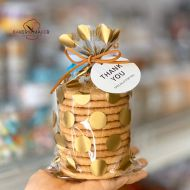Snack: (48, 22, 142, 183)
